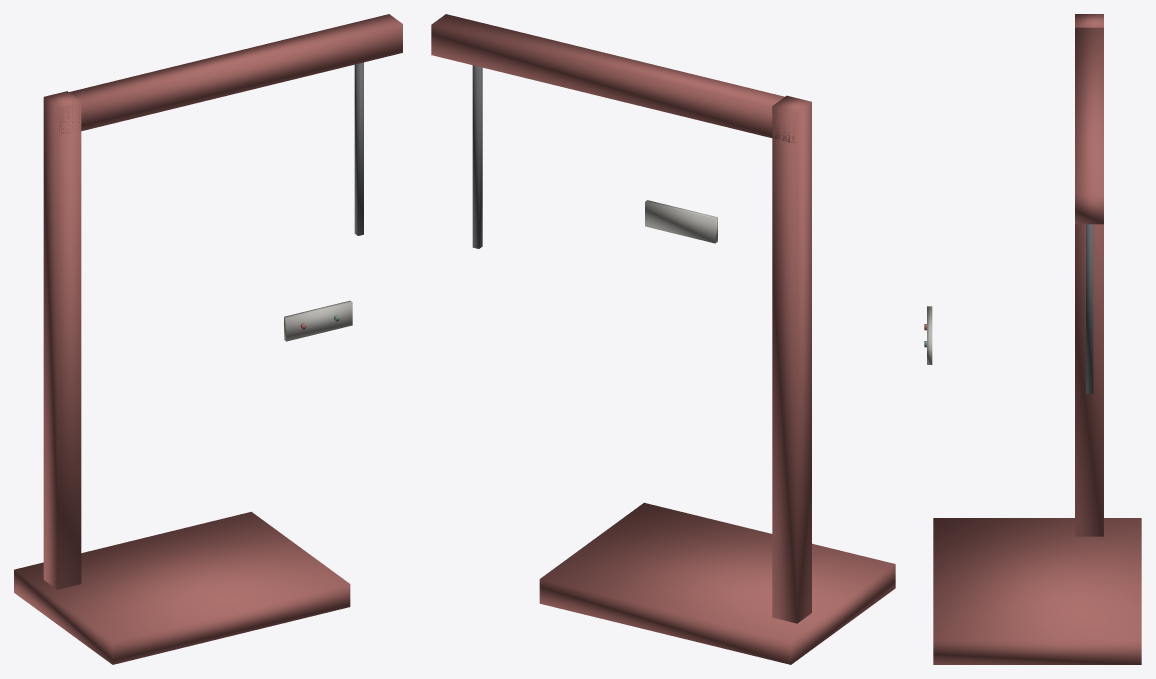
File: engine_hoist__tall.glb
3 renders of one model, left to right at view 1: azimuth 30°, elevation 25°; view 2: azimuth 150°, elevation 25°; view 3: azimuth 270°, elevation 25°, orthographic. The views are drawn at different scales.
Parts seen in each view (by area): view 1: world; view 2: world; view 3: world.
Part boxes in pixels (left/top/right/bottom): world: left=14, top=14, right=402, bottom=664; world: left=431, top=14, right=895, bottom=664; world: left=924, top=14, right=1141, bottom=664.
Bounding box in the file's own units: 1.5 × 2.04 × 0.751.
